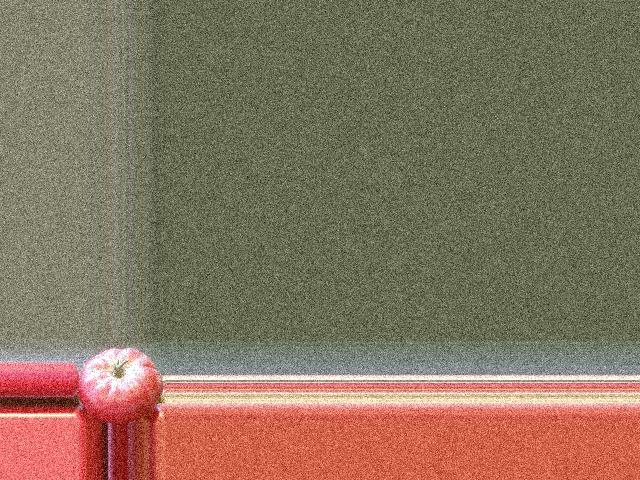tomato: (78, 348, 163, 423)
